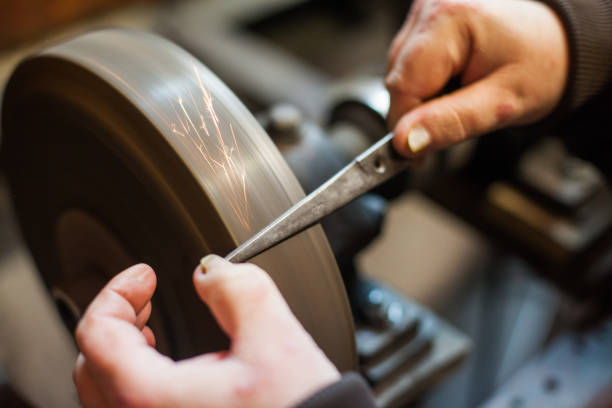knife: (223, 135, 407, 263)
